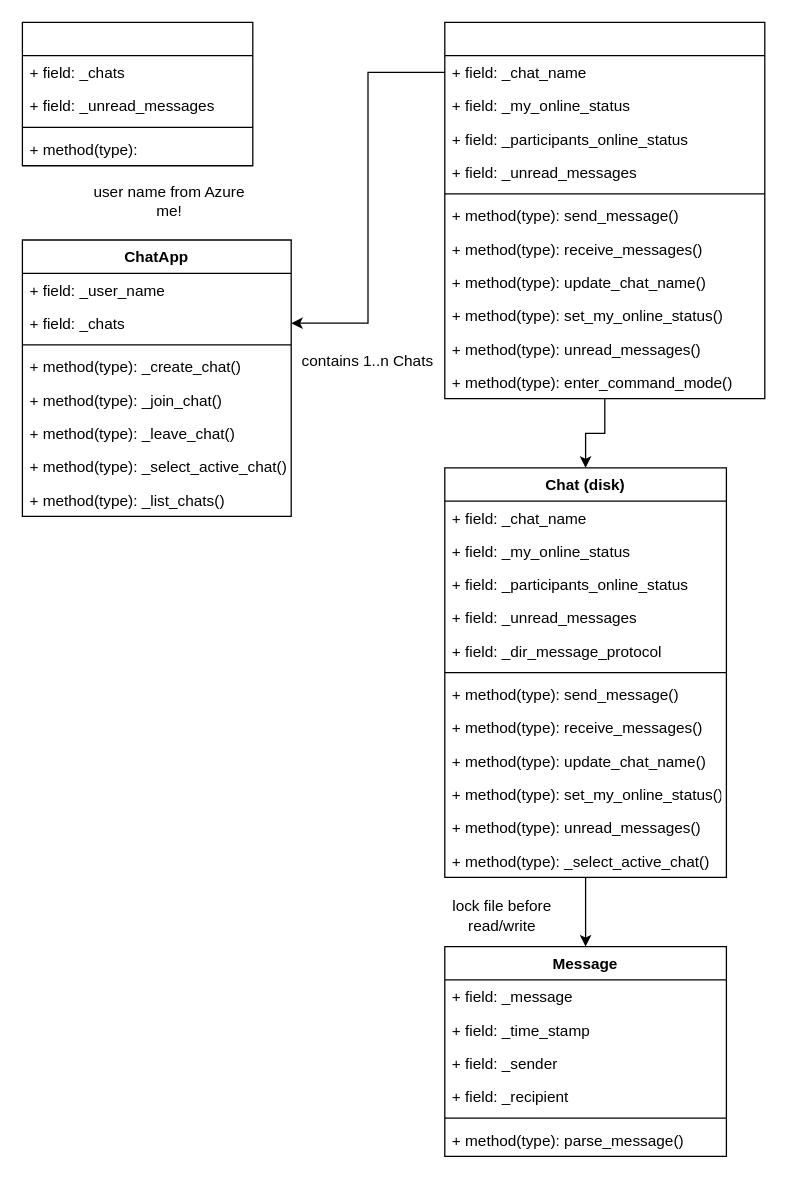
This 787x1183 diagram has some shape labels left out. The shapes that lost their labels are listed below. From the top down, each one's box as (x1, y1, x2, y2) in pixels, then its label:
(21, 21, 253, 166): Display
(444, 21, 765, 399): Chat (virtual)
